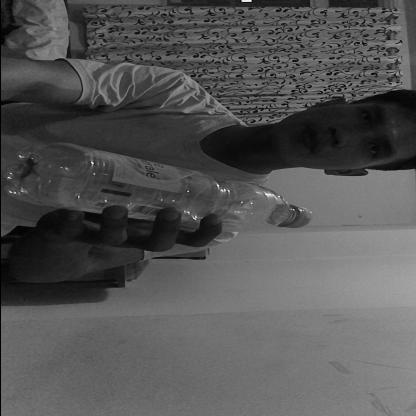plastic_bottles: (0, 140, 314, 231)
